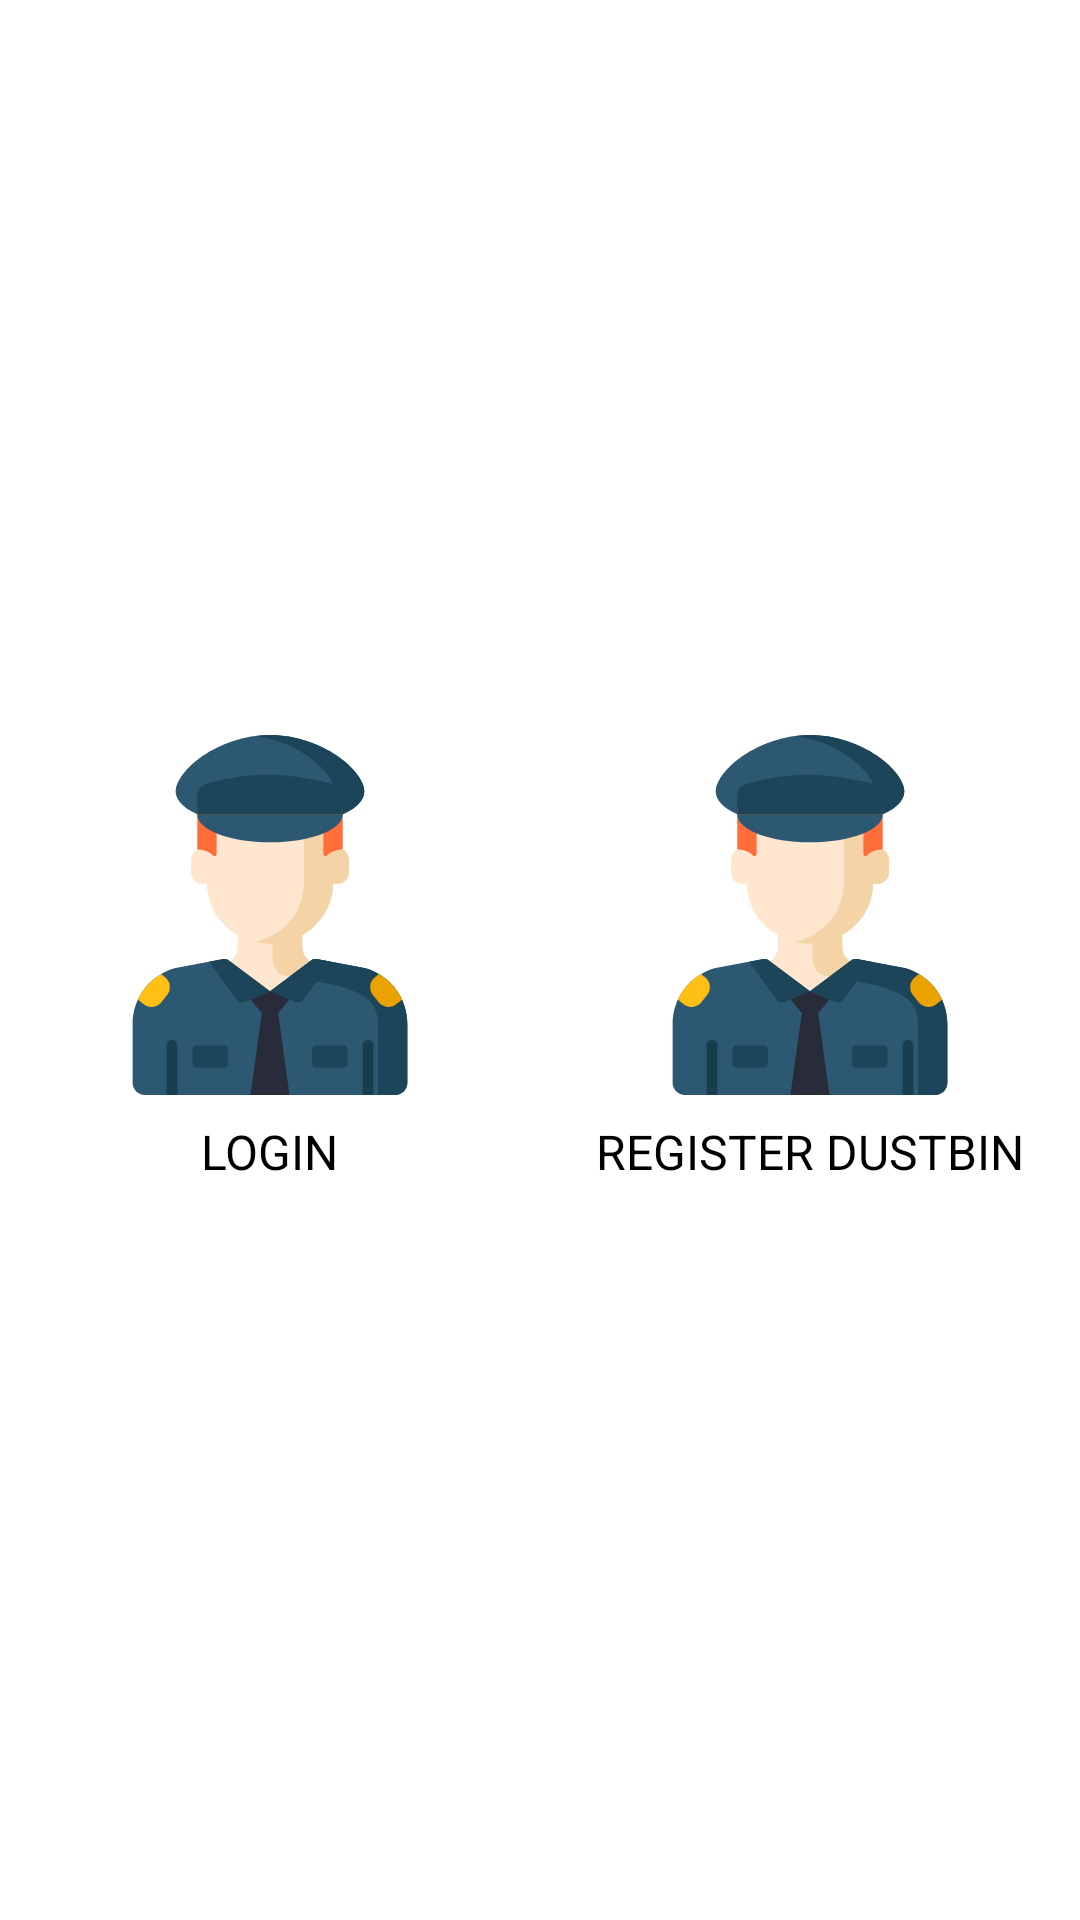

Named icons in this screenshot (1080px×1920px) and their bounding boxes, (x1,y1,x2,y2):
policeman: (132,735,408,1095), (672,735,948,1095)
